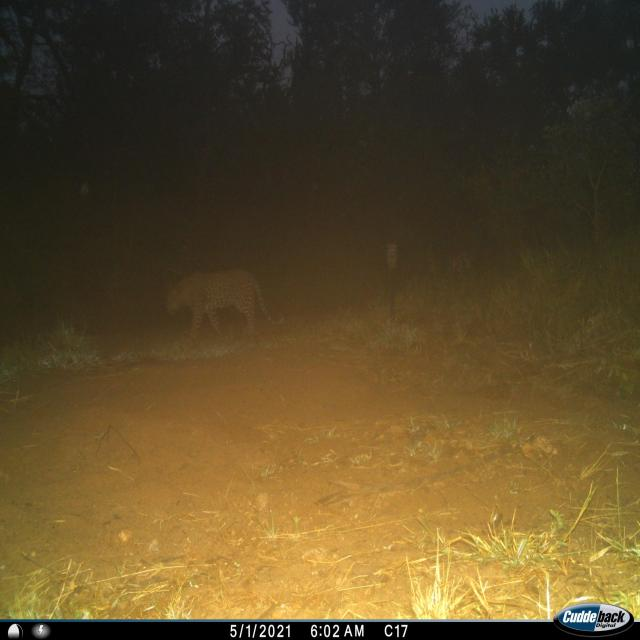Leopard: (174, 279, 270, 333)
